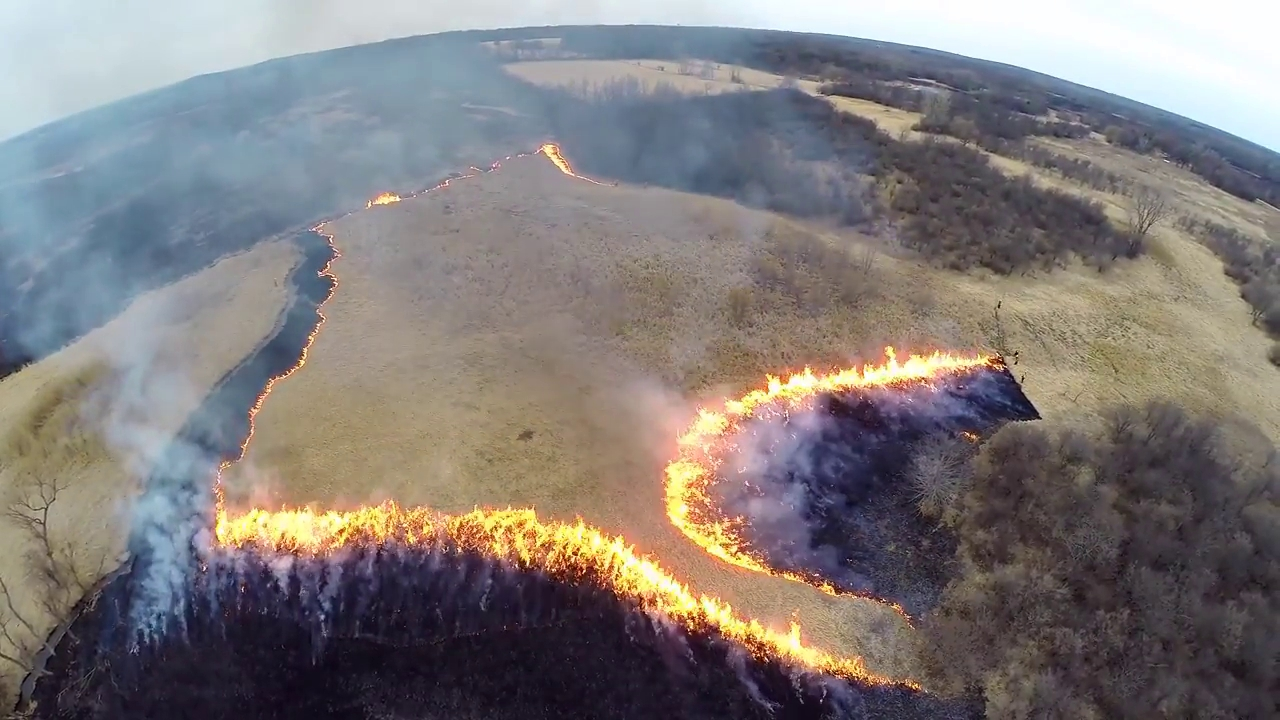forest_fire: (213, 220, 921, 689), (664, 347, 1004, 596), (680, 354, 993, 446), (667, 452, 768, 571), (533, 142, 579, 175), (422, 177, 456, 191), (367, 194, 399, 205), (810, 581, 835, 592), (460, 172, 477, 175), (489, 163, 498, 168)
